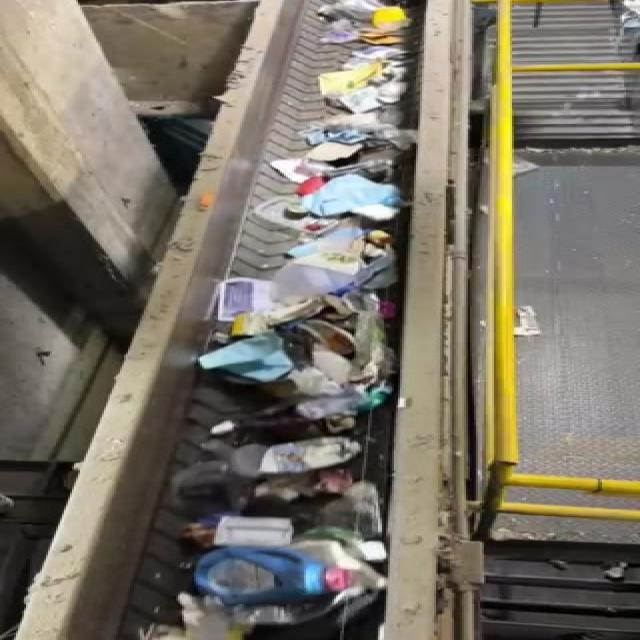hdpe: (183, 544, 365, 604)
paper: (237, 430, 361, 479), (187, 514, 302, 548)
pp: (320, 481, 391, 537), (168, 453, 234, 508)
